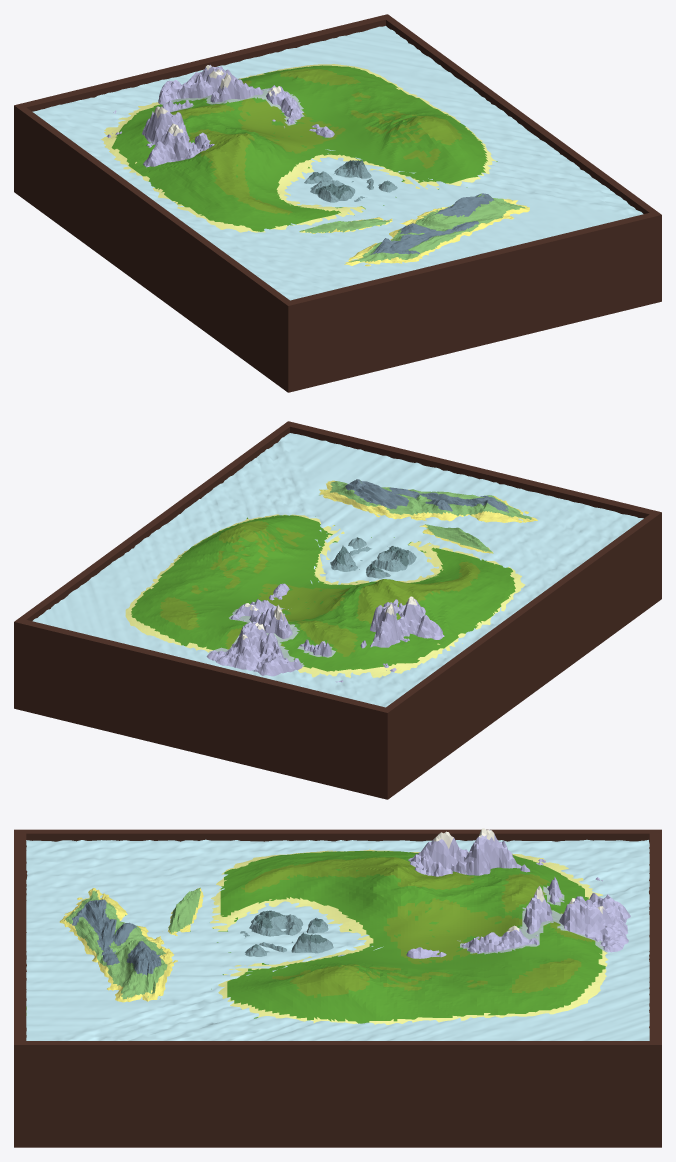
The model's file is map01.fbx.
3 views of the same model, one above another, from view 1: azimuth 30°, elevation 25°; view 2: azimuth 150°, elevation 25°; view 3: azimuth 270°, elevation 25° (orthographic). The views are drawn at different scales.
Visible parts, largest first — view 1: Desk, sea, Landscape.012, Landscape.014, Landscape.013, Landscape.006; view 2: Desk, sea, Landscape.012, Landscape.013, Landscape.014, Landscape.006; view 3: Desk, sea, Landscape.012, Landscape.013, Landscape.014, Landscape.006.
Boxes of the visible parts, <box> form: Desk: <box>14,14,661,392</box>; sea: <box>32,26,643,300</box>; Landscape.012: <box>101,64,497,232</box>; Landscape.014: <box>299,193,529,266</box>; Landscape.013: <box>106,65,334,167</box>; Landscape.006: <box>304,160,397,202</box>; Desk: <box>14,421,661,799</box>; sea: <box>32,433,643,707</box>; Landscape.012: <box>125,514,525,677</box>; Landscape.013: <box>206,583,444,682</box>; Landscape.014: <box>319,479,537,553</box>; Landscape.006: <box>330,537,416,578</box>; Desk: <box>14,829,661,1147</box>; sea: <box>26,839,649,1040</box>; Landscape.012: <box>210,849,608,1024</box>; Landscape.013: <box>406,828,630,958</box>; Landscape.014: <box>26,887,203,1015</box>; Landscape.006: <box>240,910,333,956</box>.
Size of the model in its own units: 17542 by 5521 by 22293.
